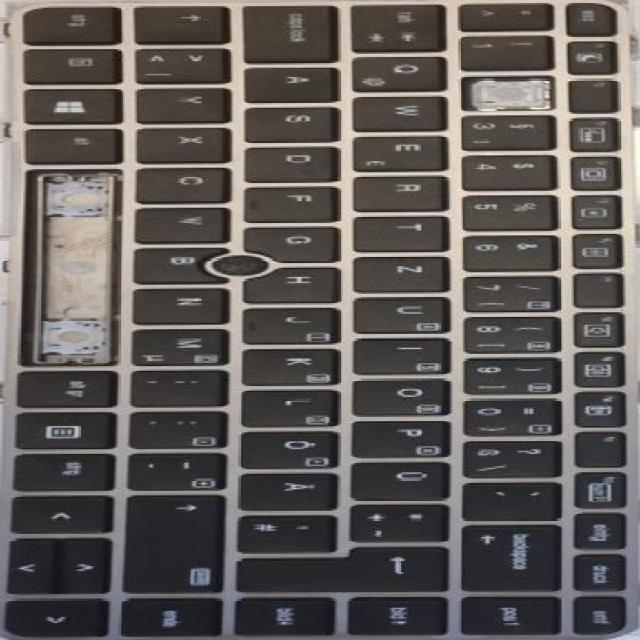Keyboard problems: (22, 175, 118, 363), (465, 78, 552, 108)
